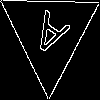A: (24, 9, 71, 66)
